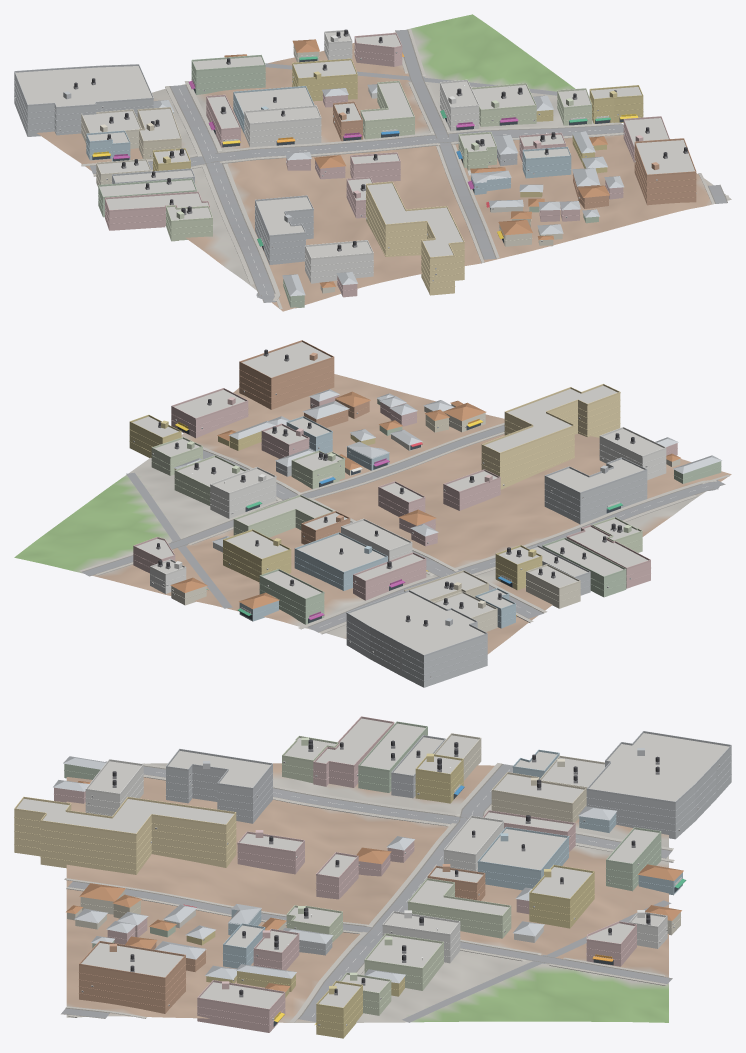
3 renders of one model, top to bottom at view 1: azimuth 30°, elevation 25°; view 2: azimuth 150°, elevation 25°; view 3: azimuth 270°, elevation 25°, orthographic. The views are drawn at different scales.
Parts seen in each view (by area): view 1: Buildings-col, Terrain-col, Details, Roads-col, Sidewalks-col; view 2: Buildings-col, Terrain-col, Details, Roads-col, Sidewalks-col; view 3: Buildings-col, Terrain-col, Details, Roads-col, Sidewalks-col.
Boxes of the visible parts, x1,y1,x2,y2 form: Buildings-col: [14, 31, 696, 308]; Terrain-col: [37, 14, 731, 311]; Details: [14, 29, 696, 301]; Roads-col: [90, 29, 727, 302]; Sidewalks-col: [81, 29, 729, 309]; Buildings-col: [129, 342, 721, 687]; Terrain-col: [14, 374, 731, 654]; Details: [129, 340, 721, 681]; Roads-col: [81, 425, 725, 632]; Sidewalks-col: [79, 384, 729, 634]; Buildings-col: [14, 718, 731, 1038]; Terrain-col: [66, 763, 668, 1022]; Details: [14, 716, 731, 1030]; Roads-col: [61, 761, 672, 1022]; Sidewalks-col: [64, 763, 674, 1022].
Size of the model in its own units: 298 by 23.79 by 305.
